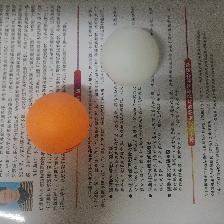WhiteBall: (101, 26, 159, 84)
YellowBall: (25, 92, 89, 153)
